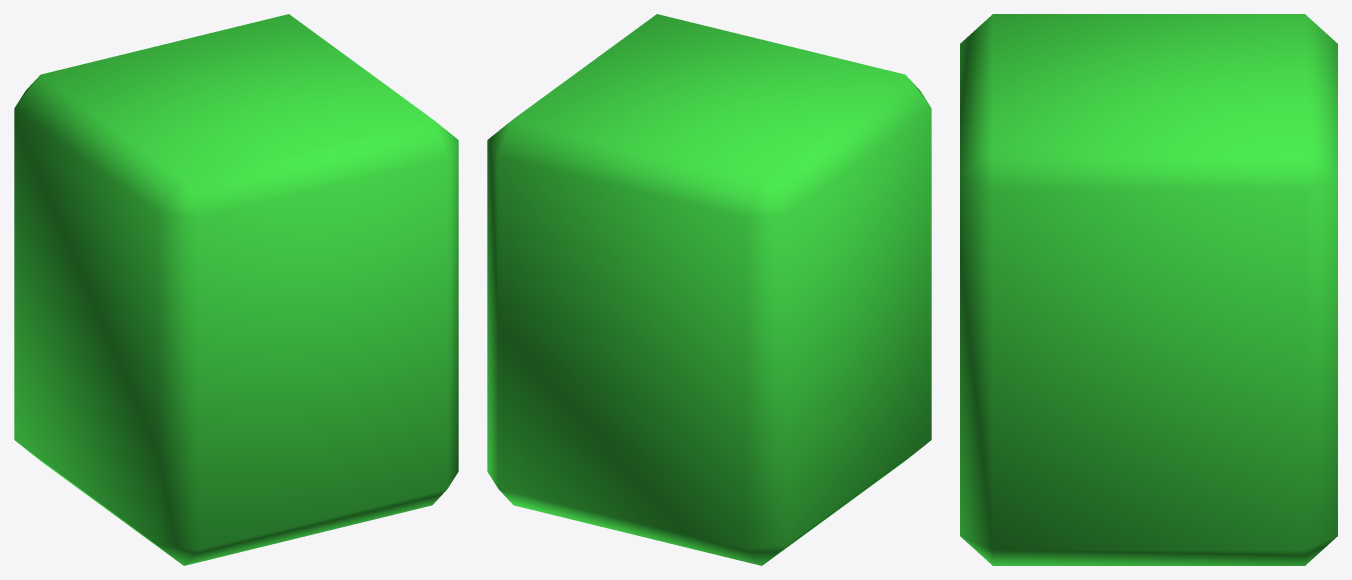
The model's file is bush_1_normal.fbx.
The picture shows the model from 3 angles, left to right: view 1: azimuth 30°, elevation 25°; view 2: azimuth 150°, elevation 25°; view 3: azimuth 270°, elevation 25°; orthographic projection. The views are drawn at different scales.
Visible parts, largest first — view 1: bush simple; view 2: bush simple; view 3: bush simple.
Boxes of the visible parts, x1,y1,x2,y2 form: bush simple: (14,14,458,565); bush simple: (487,14,931,565); bush simple: (960,14,1337,565).
Size of the model in its own units: 201 by 247 by 201.
